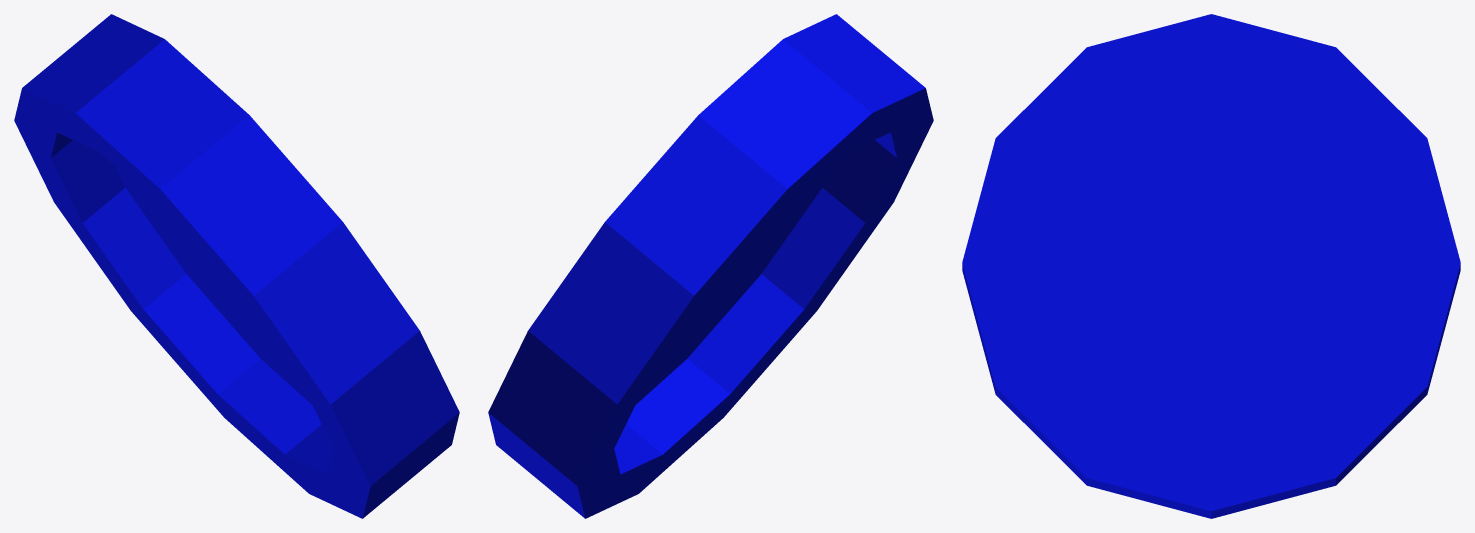
Rendered from outlet_main_r_3.glb.
3 renders of one model, left to right at view 1: azimuth 30°, elevation 25°; view 2: azimuth 150°, elevation 25°; view 3: azimuth 270°, elevation 25°, orthographic. The views are drawn at different scales.
Visible parts, largest first — view 1: Cylinder.023; view 2: Cylinder.023; view 3: Cylinder.023.
Boxes of the visible parts, bbox=[...] form: Cylinder.023: bbox=[14, 14, 459, 518]; Cylinder.023: bbox=[488, 14, 933, 518]; Cylinder.023: bbox=[962, 14, 1460, 518].
Bounding box in the file's own units: 0.1259 × 0.1825 × 0.1867.
